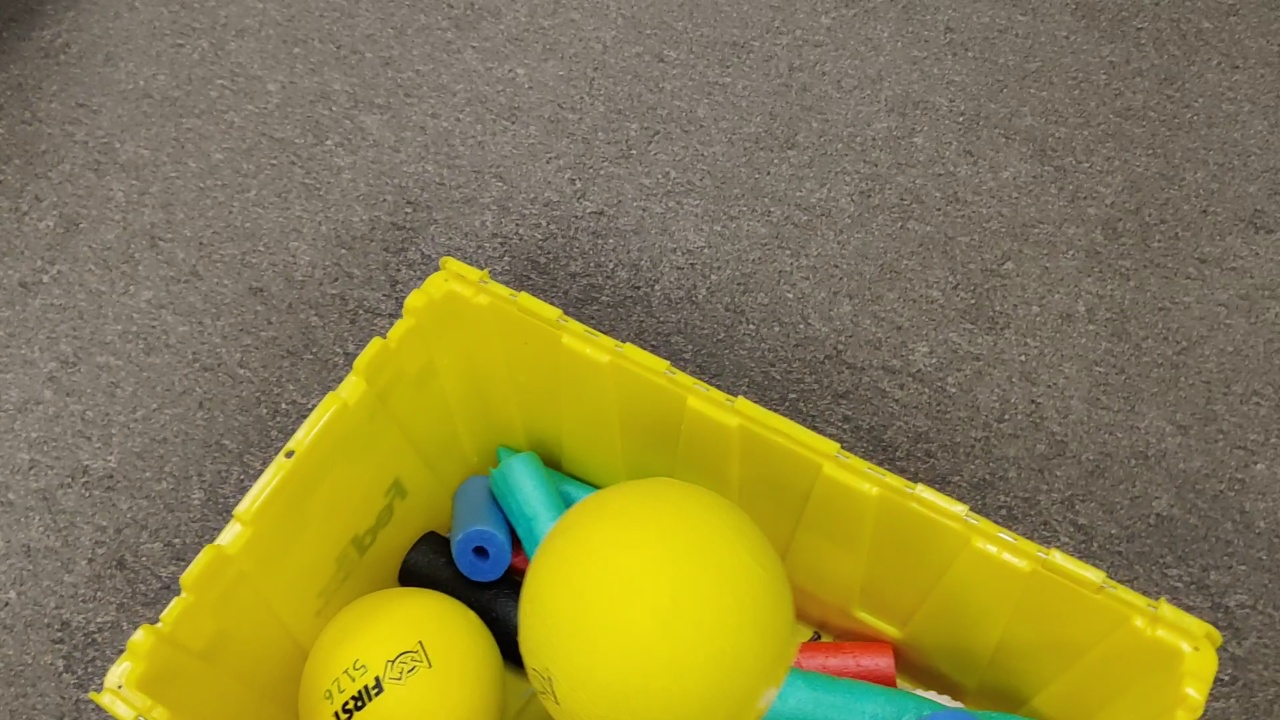Ball: (515, 474, 796, 720), (299, 587, 506, 720)
